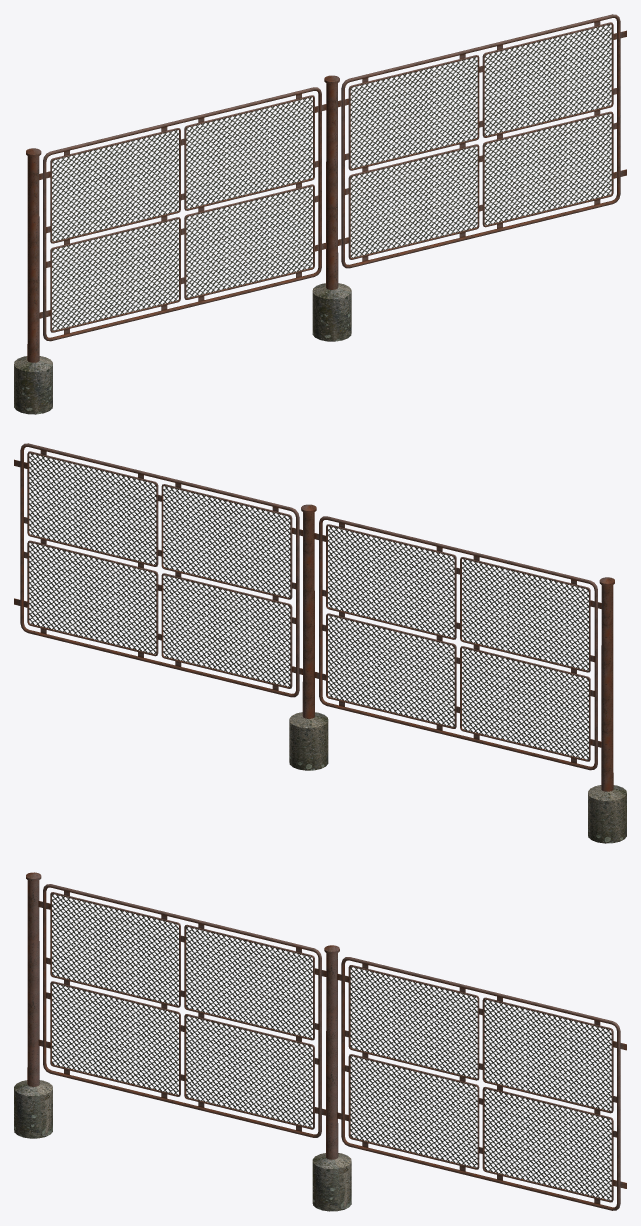
The model's file is WiredFenceLong.FBX.
3 renders of one model, top to bottom at view 1: azimuth 30°, elevation 25°; view 2: azimuth 150°, elevation 25°; view 3: azimuth 330°, elevation 25°, orthographic.
Parts seen in each view (by area): view 1: WiredFenceLong; view 2: WiredFenceLong; view 3: WiredFenceLong.
Part boxes in pixels (box(x1,y1,x2,y2)): WiredFenceLong: box(14, 14, 626, 414); WiredFenceLong: box(14, 443, 626, 843); WiredFenceLong: box(14, 872, 626, 1211).
Size of the model in its own units: 88.61 by 35.62 by 4.97.
